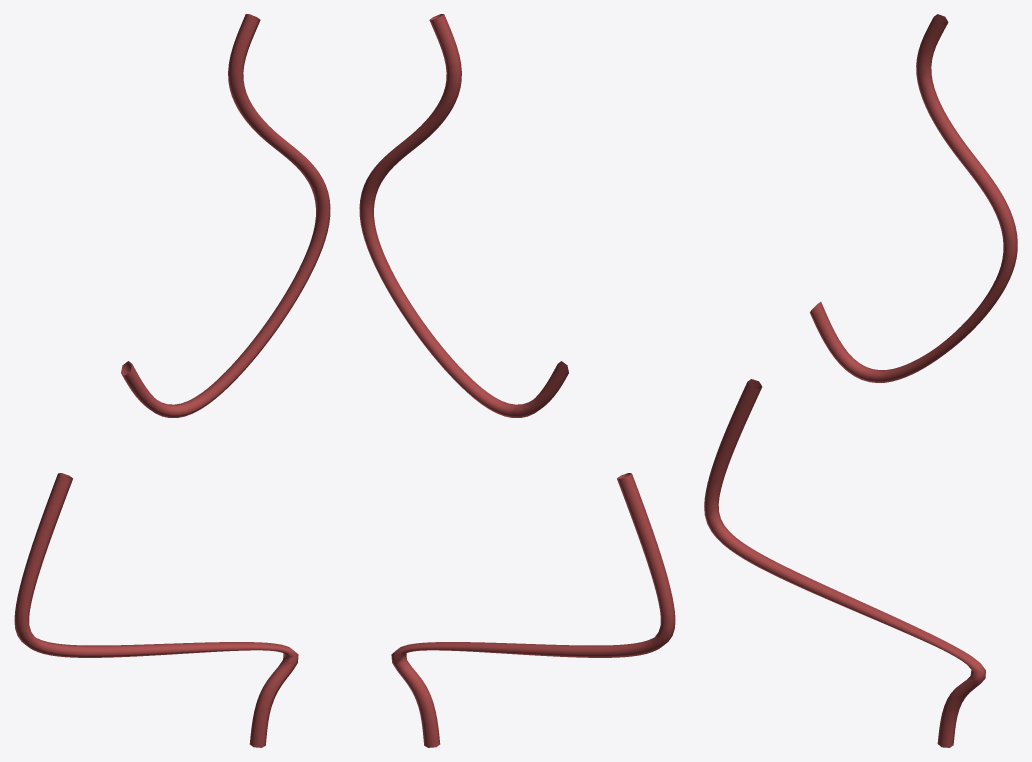
The model's file is snipTwo.fbx.
3 views of the same model, side by side, from view 1: azimuth 30°, elevation 25°; view 2: azimuth 150°, elevation 25°; view 3: azimuth 330°, elevation 25° (orthographic).
Parts seen in each view (by area): view 1: extrudedSurface17, extrudedSurface22; view 2: extrudedSurface17, extrudedSurface22; view 3: extrudedSurface17, extrudedSurface22.
Boxes of the visible parts, bbox=[...] form: extrudedSurface17: bbox=[121, 14, 330, 417]; extrudedSurface22: bbox=[14, 473, 298, 747]; extrudedSurface17: bbox=[359, 14, 568, 417]; extrudedSurface22: bbox=[391, 473, 675, 747]; extrudedSurface17: bbox=[810, 14, 1017, 382]; extrudedSurface22: bbox=[704, 379, 985, 747].
Bounding box in the file's own units: 26.42 × 59.26 × 1.19.
